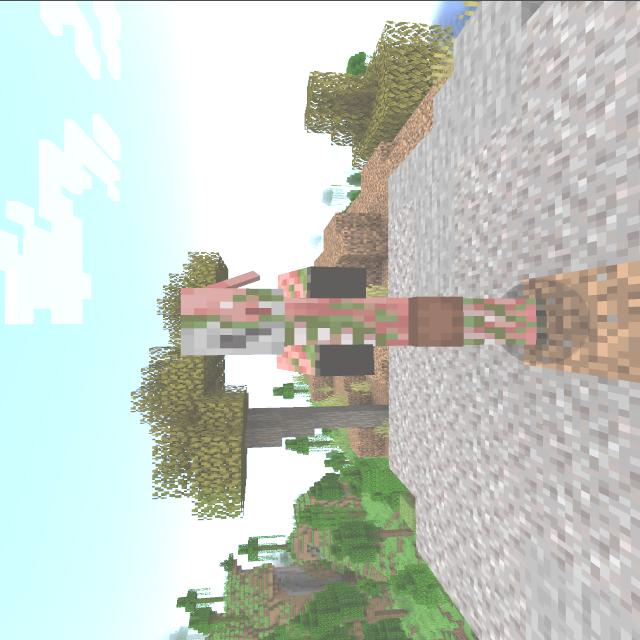Zombified Piglin: (153, 249, 568, 389)
